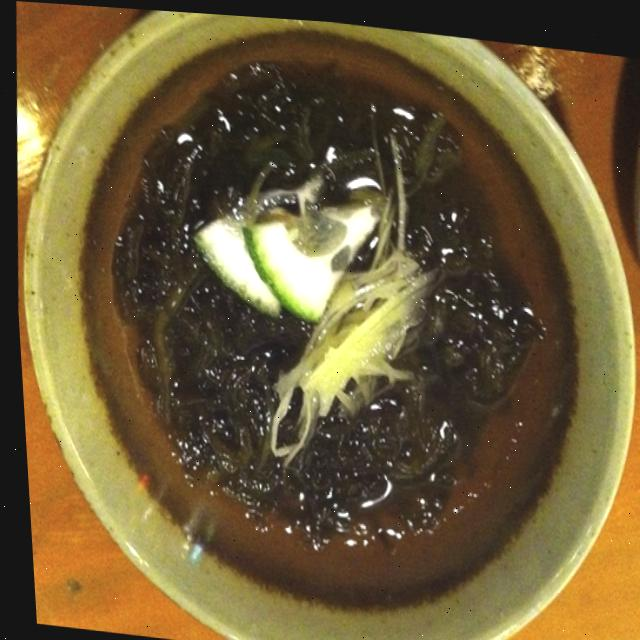蔬菜料理: (33, 4, 637, 640)
